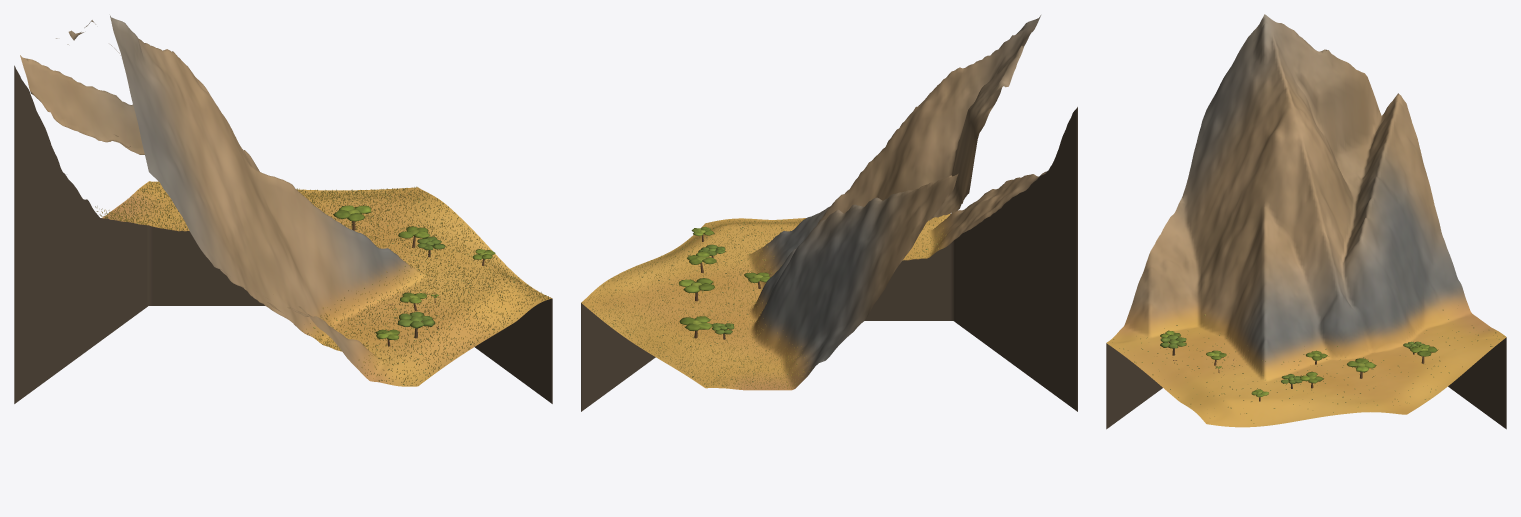
3 renders of one model, left to right at view 1: azimuth 30°, elevation 25°; view 2: azimuth 150°, elevation 25°; view 3: azimuth 270°, elevation 25°, orthographic. The views are drawn at different scales.
Parts seen in each view (by area): view 1: terrain, hex_side_cut, SV4_W_wildflowers, SV3_W_wildflowers, SV2_W_wildflowers, SV3_W_broadleaf_canopy, SV4_W_broadleaf_canopy; view 2: terrain, hex_side_cut, SV2_W_wildflowers, SV3_W_wildflowers, SV3_W_broadleaf_canopy, SV4_W_wildflowers, SV2_W_broadleaf_canopy; view 3: terrain, hex_side_cut, SV3_W_broadleaf_canopy, SV4_W_broadleaf_canopy.
Part boxes in pixels (x1=…): terrain: x1=20, y1=15, x2=552, y2=386; hex_side_cut: x1=14, y1=65, x2=552, y2=403; SV4_W_wildflowers: x1=302, y1=267, x2=550, y2=385; SV3_W_wildflowers: x1=338, y1=188, x2=548, y2=301; SV2_W_wildflowers: x1=95, y1=181, x2=425, y2=240; SV3_W_broadleaf_canopy: x1=333, y1=205, x2=495, y2=259; SV4_W_broadleaf_canopy: x1=375, y1=292, x2=438, y2=340; terrain: x1=581, y1=15, x2=1047, y2=390; hex_side_cut: x1=581, y1=107, x2=1077, y2=411; SV2_W_wildflowers: x1=582, y1=273, x2=812, y2=389; SV3_W_wildflowers: x1=590, y1=221, x2=781, y2=310; SV3_W_broadleaf_canopy: x1=678, y1=227, x2=770, y2=292; SV4_W_wildflowers: x1=704, y1=215, x2=948, y2=271; SV2_W_broadleaf_canopy: x1=679, y1=316, x2=734, y2=334; terrain: x1=1106, y1=14, x2=1506, y2=427; hex_side_cut: x1=1106, y1=337, x2=1506, y2=429; SV3_W_broadleaf_canopy: x1=1251, y1=350, x2=1376, y2=397; SV4_W_broadleaf_canopy: x1=1160, y1=330, x2=1226, y2=368.
Size of the model in its own units: 4330 by 4715 by 5000.
